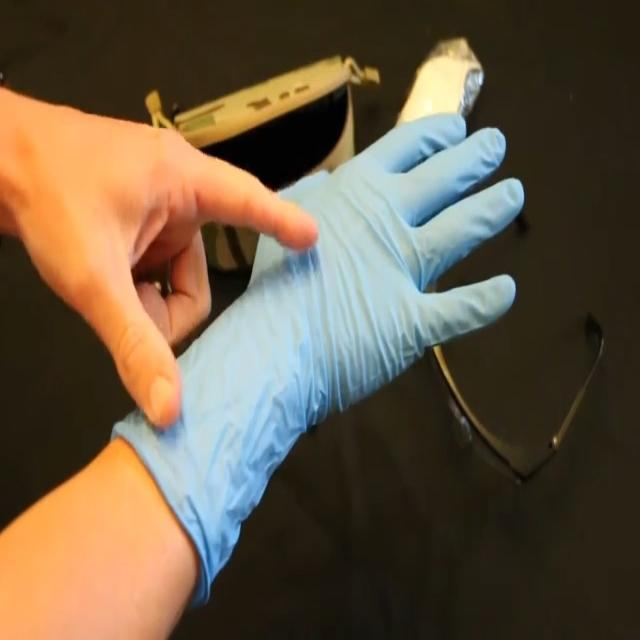Gloves: (115, 98, 543, 604)
